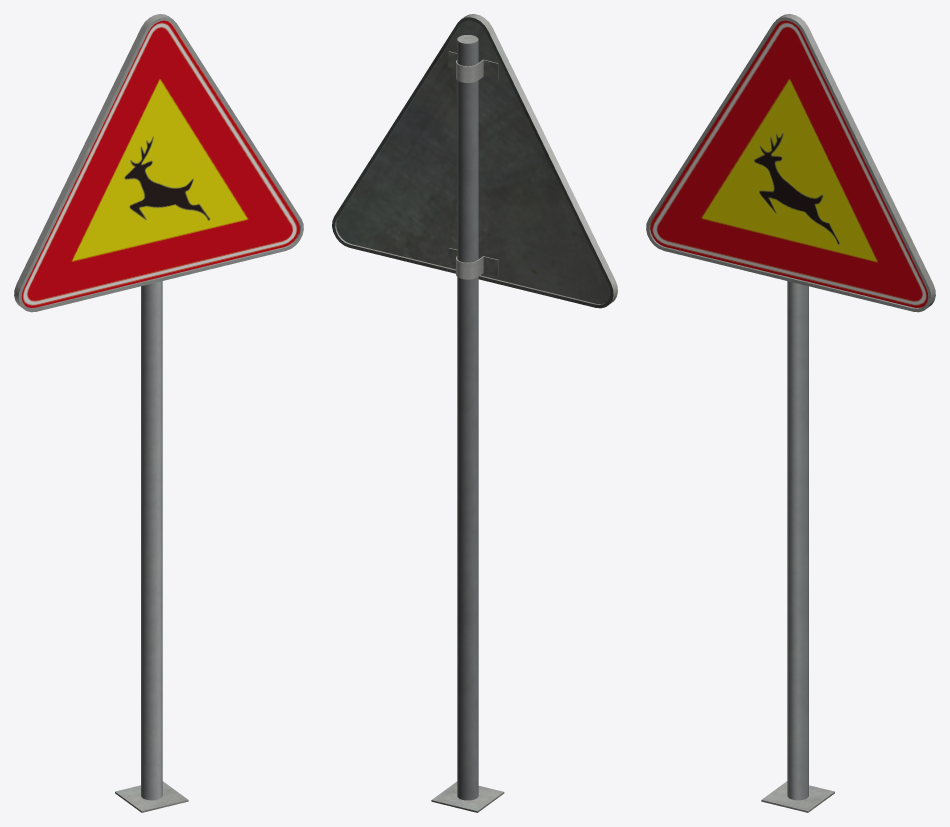
The picture shows the model from 3 angles, left to right: view 1: azimuth 30°, elevation 25°; view 2: azimuth 150°, elevation 25°; view 3: azimuth 330°, elevation 25°; orthographic projection.
Visible parts, largest first — view 1: MainBuilding; view 2: MainBuilding; view 3: MainBuilding.
Boxes of the visible parts, x1,y1,x2,y2 form: MainBuilding: (14, 14, 303, 812); MainBuilding: (332, 14, 617, 812); MainBuilding: (646, 14, 935, 812).
Size of the model in its own units: 0.9151 by 2.41 by 0.15.
Materials: 1 (1 with a texture image).
